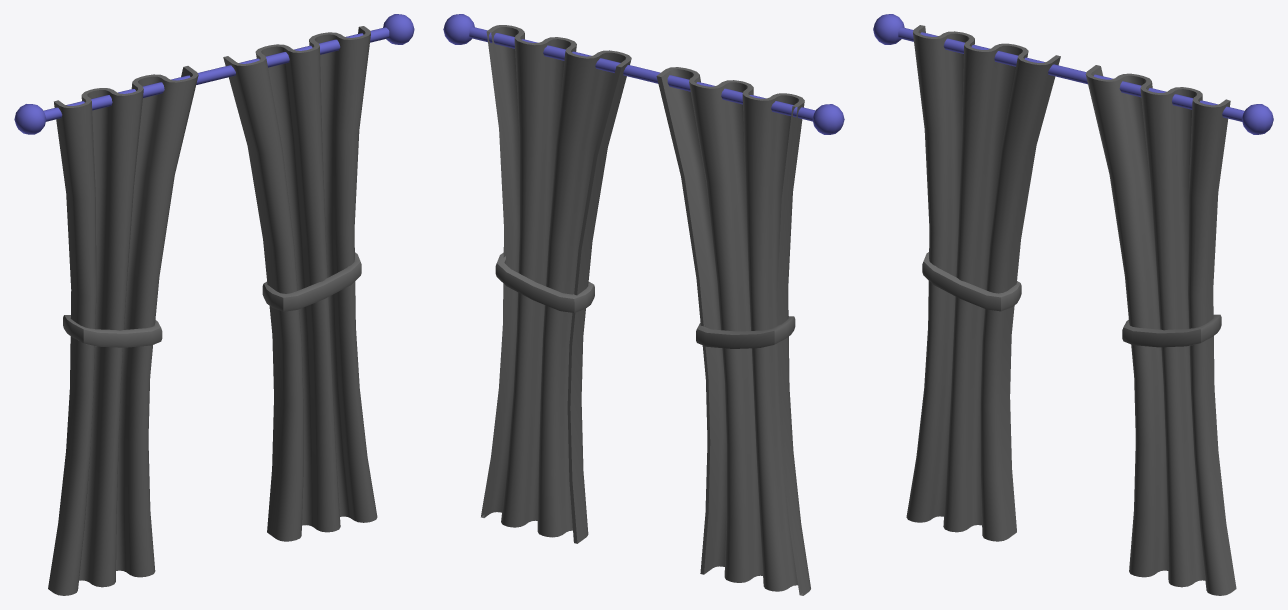
File: SM_blinds_02.fbx
The picture shows the model from 3 angles, left to right: view 1: azimuth 30°, elevation 25°; view 2: azimuth 150°, elevation 25°; view 3: azimuth 330°, elevation 25°; orthographic projection.
Visible parts, largest first — view 1: Line007; view 2: Line007; view 3: Line007.
Boxes of the visible parts, box(x1,y1,x2,y2) form: Line007: box(14, 14, 414, 595); Line007: box(443, 14, 844, 595); Line007: box(873, 14, 1273, 595).
Size of the model in its own units: 88.84 by 106 by 9.91.
